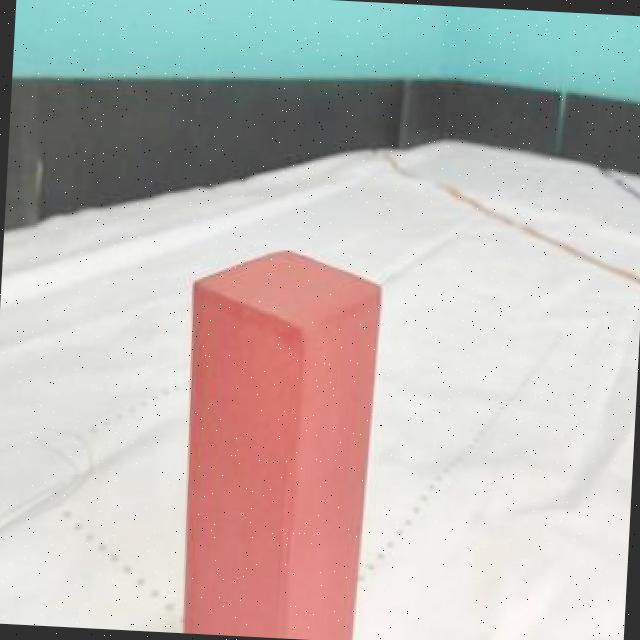redbox: (174, 239, 385, 640)
